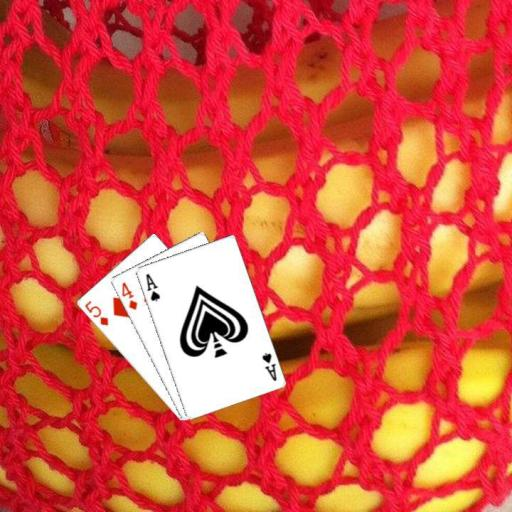4D: (118, 279, 139, 311)
5D: (81, 297, 110, 327)
AS: (258, 349, 278, 383), (143, 270, 162, 302)
